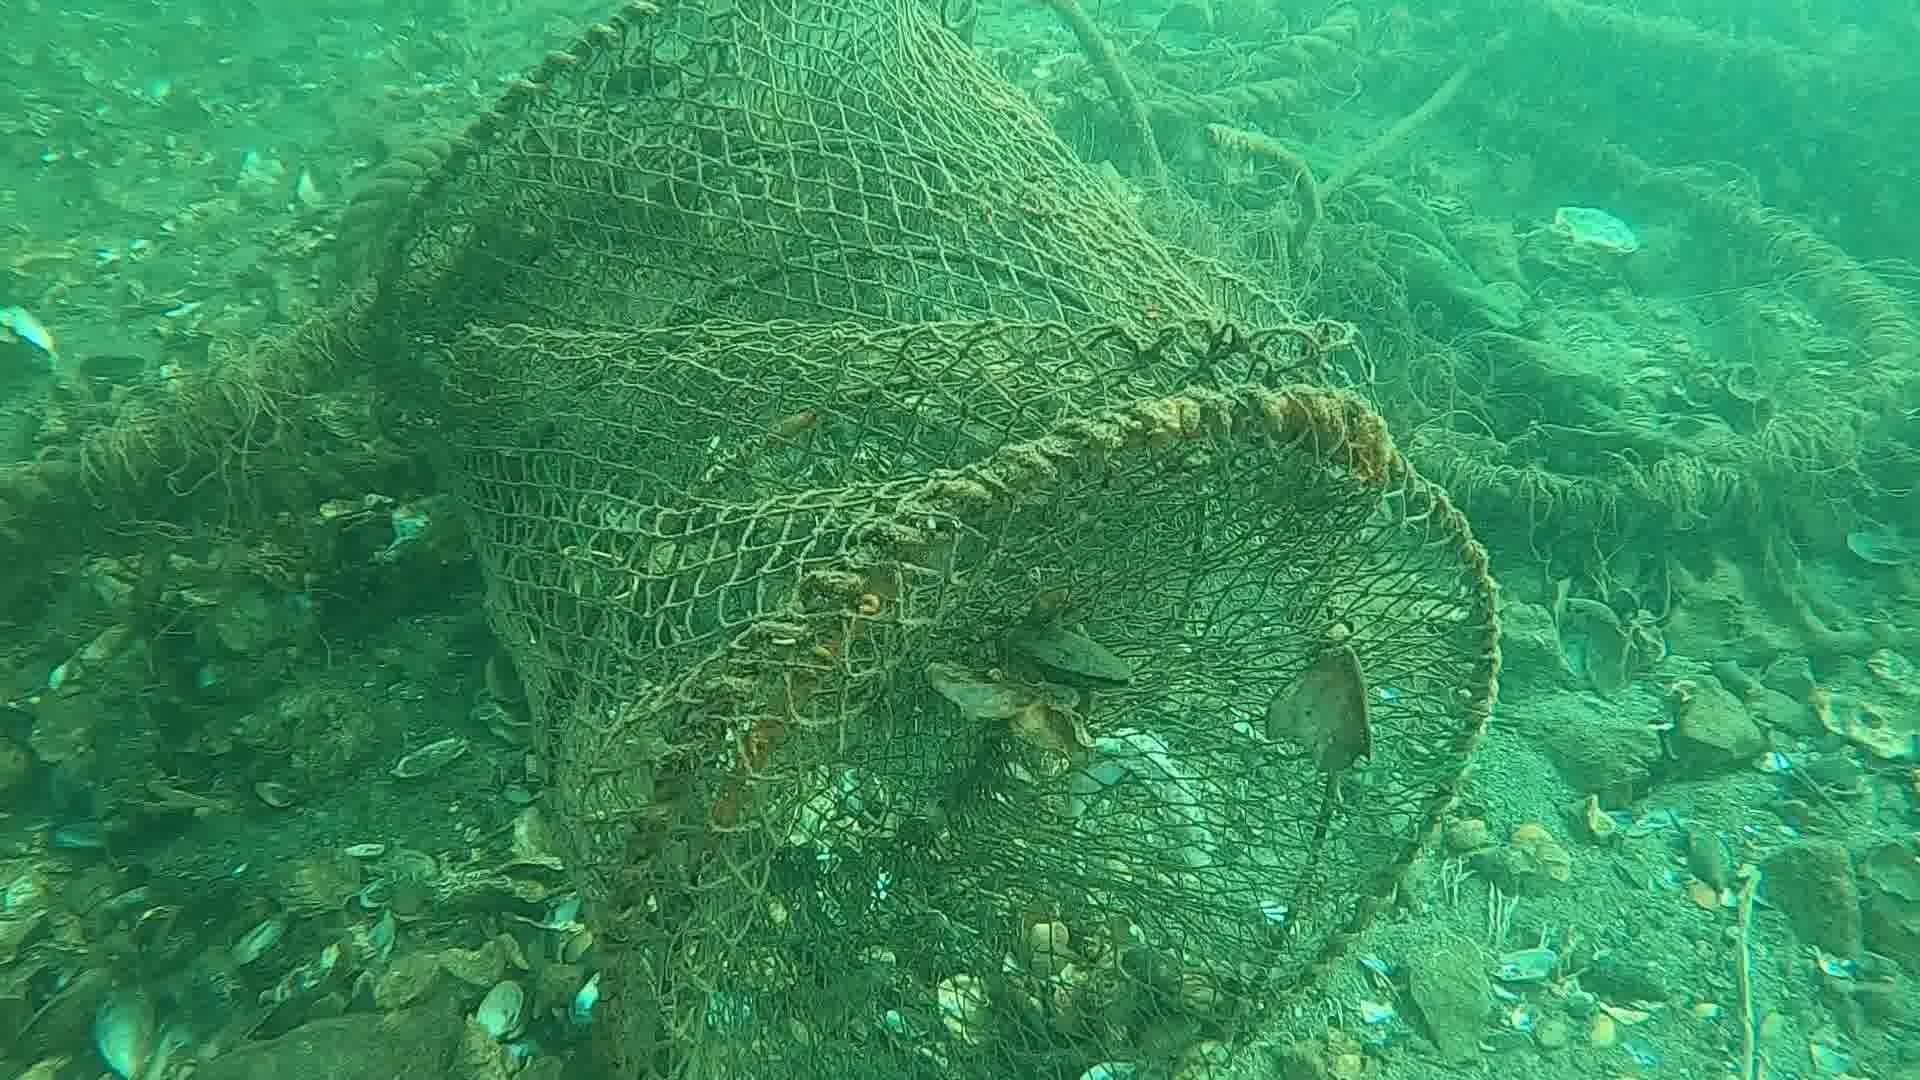bundle of ropes: (1145, 4, 1362, 121)
rope: (332, 131, 462, 281)
spring fish trap: (378, 0, 1505, 1080)
